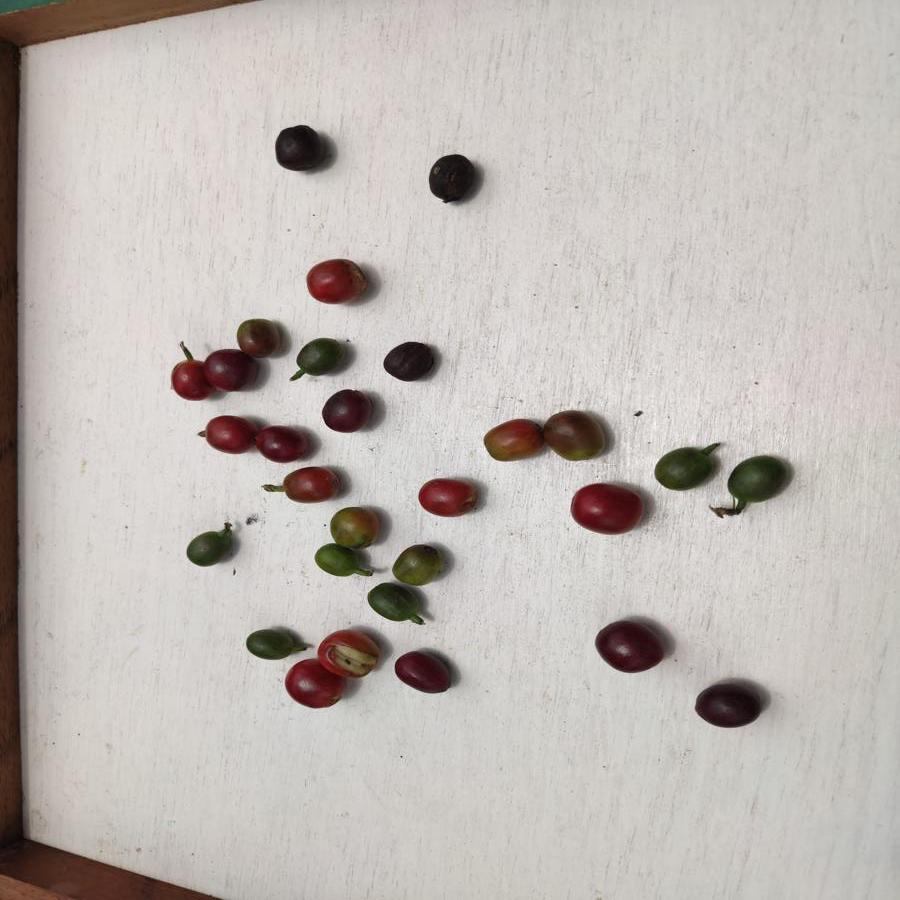Inmaduro: (726, 454, 785, 501), (652, 447, 714, 491), (366, 582, 421, 622), (294, 338, 346, 377), (185, 531, 233, 568), (245, 627, 298, 660), (313, 547, 363, 580)
Maduro: (567, 483, 644, 537), (317, 629, 378, 679), (306, 258, 368, 304), (287, 660, 345, 709), (418, 478, 478, 518), (202, 414, 254, 454), (169, 356, 208, 402)
Pinton: (543, 409, 606, 464), (482, 415, 542, 462), (390, 542, 444, 588), (329, 506, 378, 550), (236, 318, 282, 356)
Sobremaduro: (593, 620, 665, 674), (690, 684, 761, 729), (393, 650, 453, 695), (426, 154, 479, 203), (202, 348, 258, 391), (274, 124, 324, 172), (381, 340, 436, 383), (321, 389, 374, 433), (256, 426, 307, 463)
